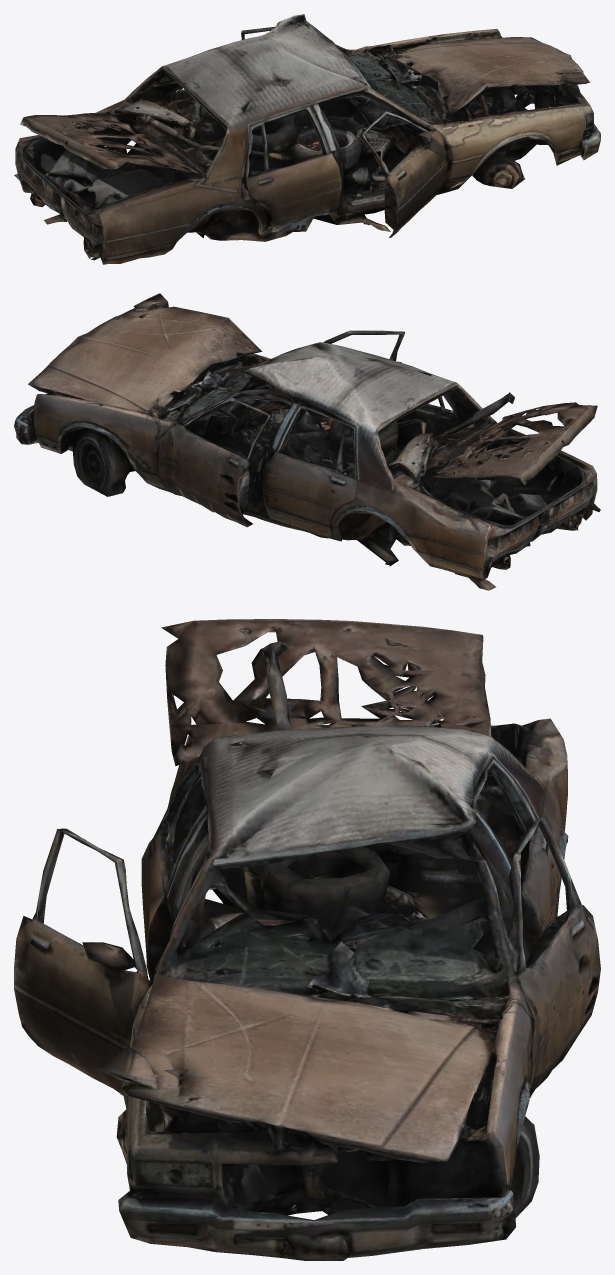
The model's file is wreck-a.glb.
The picture shows the model from 3 angles, top to bottom: view 1: azimuth 30°, elevation 25°; view 2: azimuth 150°, elevation 25°; view 3: azimuth 270°, elevation 25°; orthographic projection. The views are drawn at different scales.
Parts seen in each view (by area): view 1: Box001_caprice_low_Material_u1_v1_0; view 2: Box001_caprice_low_Material_u1_v1_0; view 3: Box001_caprice_low_Material_u1_v1_0.
Boxes of the visible parts, x1,y1,x2,y2 form: Box001_caprice_low_Material_u1_v1_0: (14,14,600,264); Box001_caprice_low_Material_u1_v1_0: (14,293,600,590); Box001_caprice_low_Material_u1_v1_0: (14,619,600,1260).
Size of the model in its own units: 5 by 1.52 by 2.6.
1 material, 1 textured.
